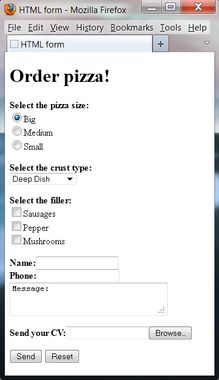_form_: (1, 1, 219, 380)
button: (149, 325, 193, 340), (44, 349, 80, 363), (9, 349, 42, 364)
checkbox: (10, 205, 24, 218), (10, 218, 23, 232), (11, 233, 23, 246)
checkbox_with_label: (9, 232, 66, 247), (9, 203, 56, 219), (8, 216, 49, 233)
field: (5, 282, 170, 316), (63, 324, 149, 340), (31, 255, 119, 270), (33, 269, 120, 283), (8, 173, 77, 185)
field_with_label: (10, 322, 150, 341), (6, 164, 91, 186), (9, 269, 122, 285), (9, 254, 120, 270)
radio: (9, 110, 23, 124), (11, 139, 24, 151), (12, 124, 22, 137)
radio_with_label: (9, 122, 54, 139), (9, 137, 45, 153), (8, 109, 36, 126)
